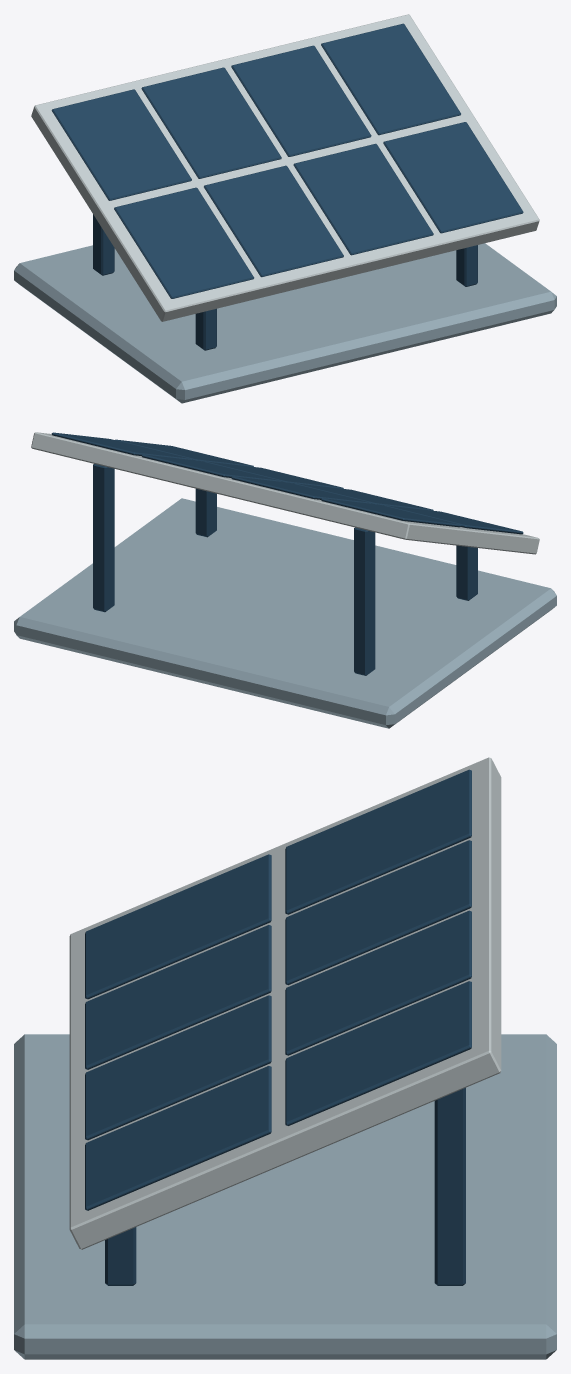
File: campus_solar_v01.glb
3 views of the same model, one above another, from view 1: azimuth 30°, elevation 25°; view 2: azimuth 150°, elevation 25°; view 3: azimuth 270°, elevation 25° (orthographic). The views are drawn at different scales.
Visible parts, largest first — view 1: campus_solar; view 2: campus_solar; view 3: campus_solar.
Boxes of the visible parts, <box> form: campus_solar: <box>14,14,556,403</box>; campus_solar: <box>14,432,556,728</box>; campus_solar: <box>14,757,556,1359</box>.
Size of the model in its own units: 3.65 by 1.77 by 2.8.
